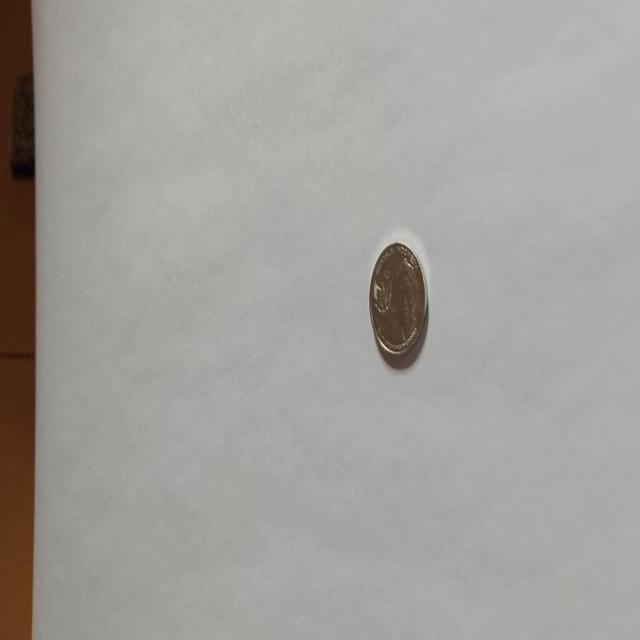dua ratus rupiah: (368, 240, 428, 359)
